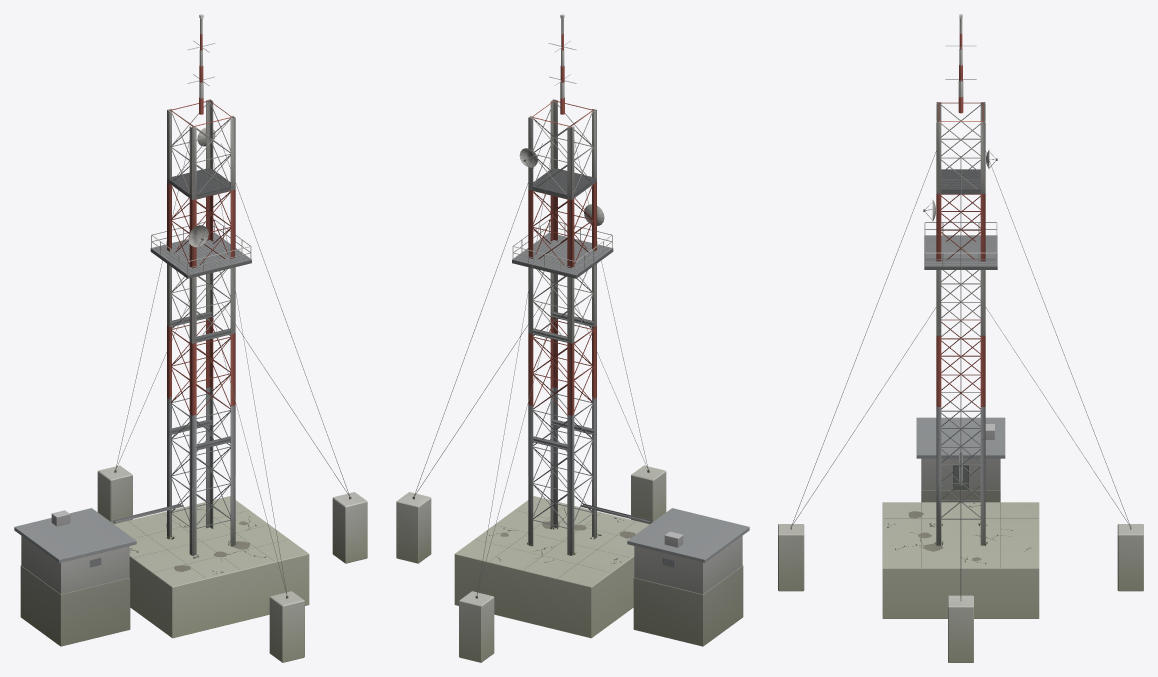
Rendered from mark_mast.glb.
3 views of the same model, side by side, from view 1: azimuth 30°, elevation 25°; view 2: azimuth 150°, elevation 25°; view 3: azimuth 270°, elevation 25° (orthographic).
Visible parts, largest first — view 1: steel, yard, concrete; view 2: steel, yard, concrete; view 3: steel, yard, concrete.
Part boxes in pixels (x1,y1,x2,y2): steel: (14, 18, 351, 598); yard: (114, 496, 309, 638); concrete: (20, 465, 367, 662); steel: (412, 18, 749, 598); yard: (454, 496, 649, 638); concrete: (396, 465, 743, 662); steel: (790, 18, 1131, 600); yard: (882, 502, 1039, 618); concrete: (778, 458, 1143, 662).
Bounding box in the file's own units: 28.4 × 48.25 × 28.
